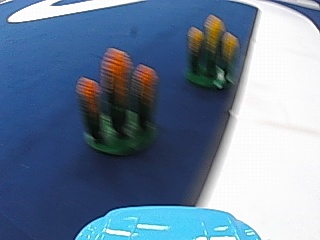corn: (78, 44, 159, 158), (186, 10, 239, 90)
